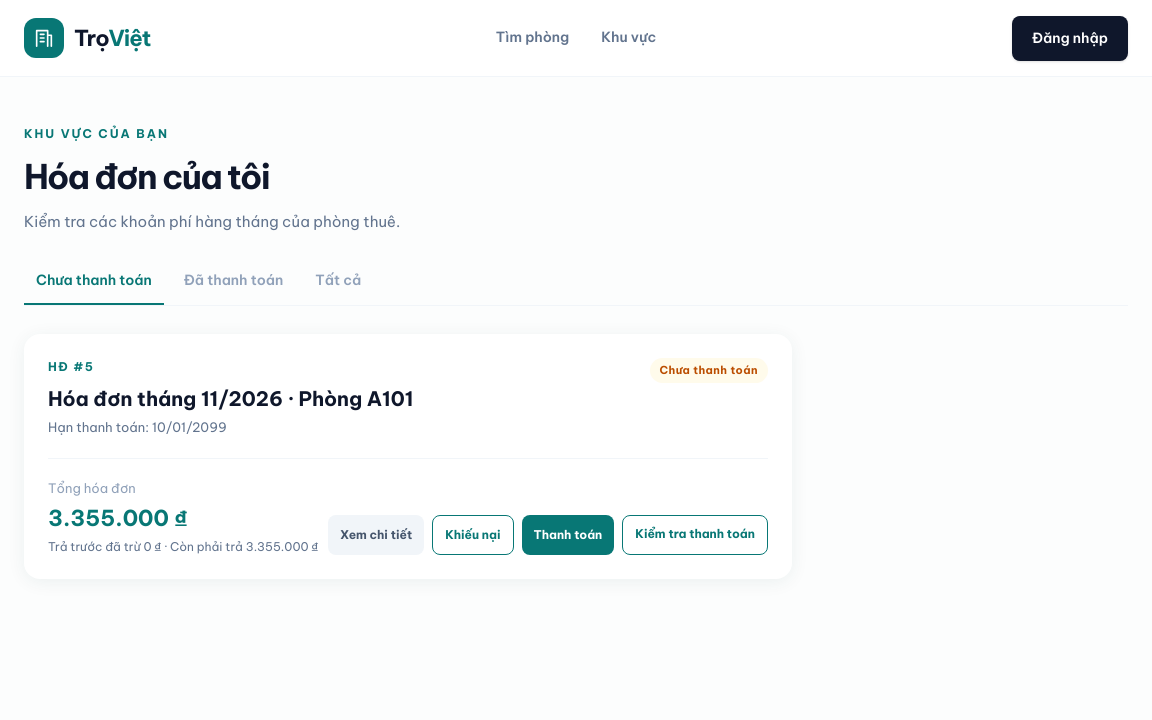
Scenario: Invoice complaints › lets the tenant complain about a real invoice line and shows it under sent complaints
The width and height of the screenshot is (1152, 720).
Click the button "Khiếu nại": x=473, y=535 [432, 515, 514, 555]
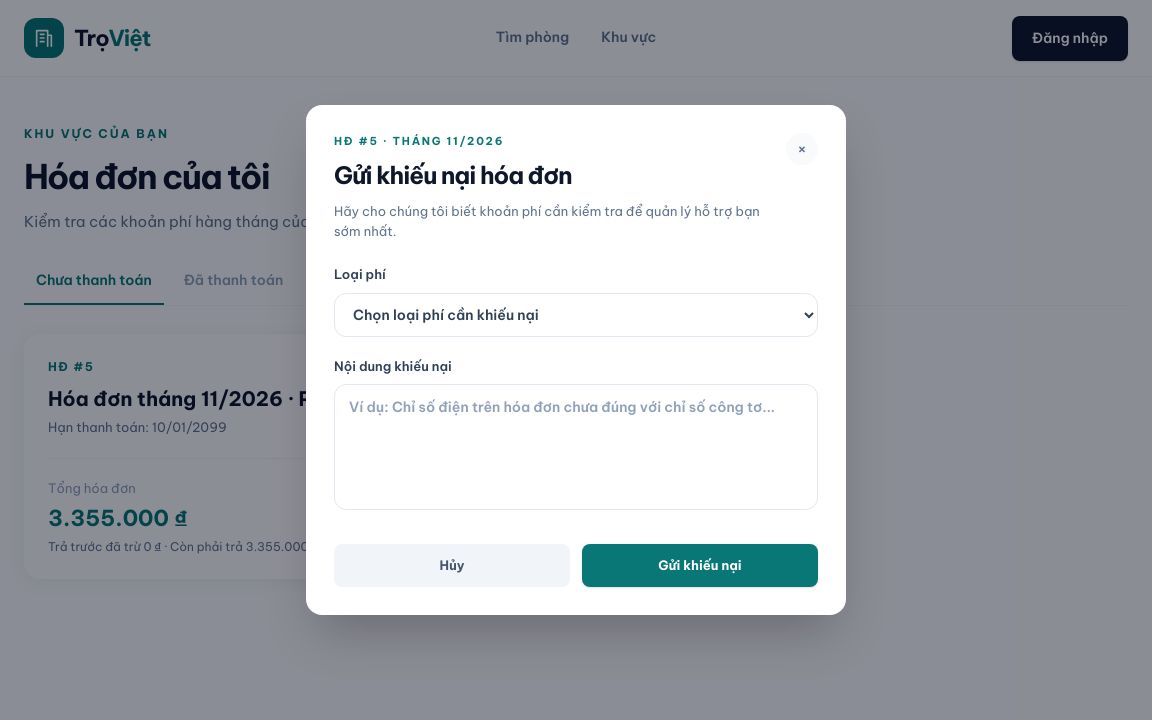
Click the button "Gửi khiếu nại": x=700, y=566 [582, 544, 818, 587]
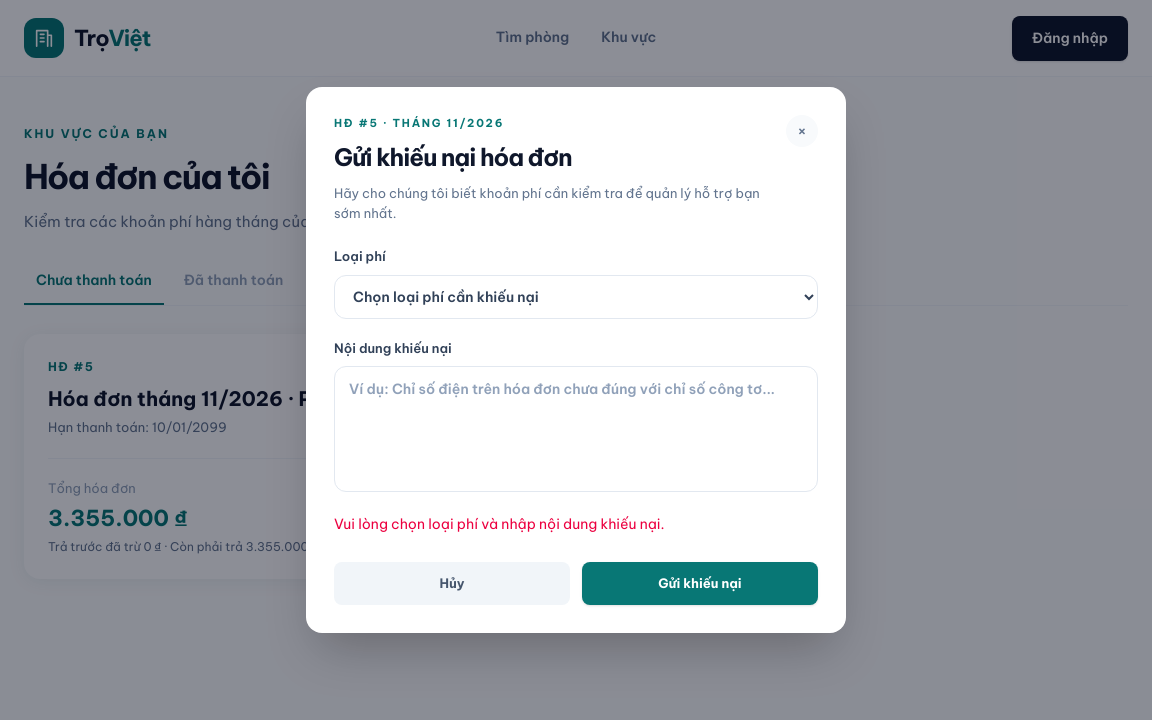
Now the message reads "Vui lòng chọn loại phí và nhập nội dung khiếu nại.", box [334, 515, 665, 533]
Select "Tiền phòng — 3.000.000 ₫" in the dropdown labelled "Loại phí": x=576, y=297 [334, 275, 818, 319]
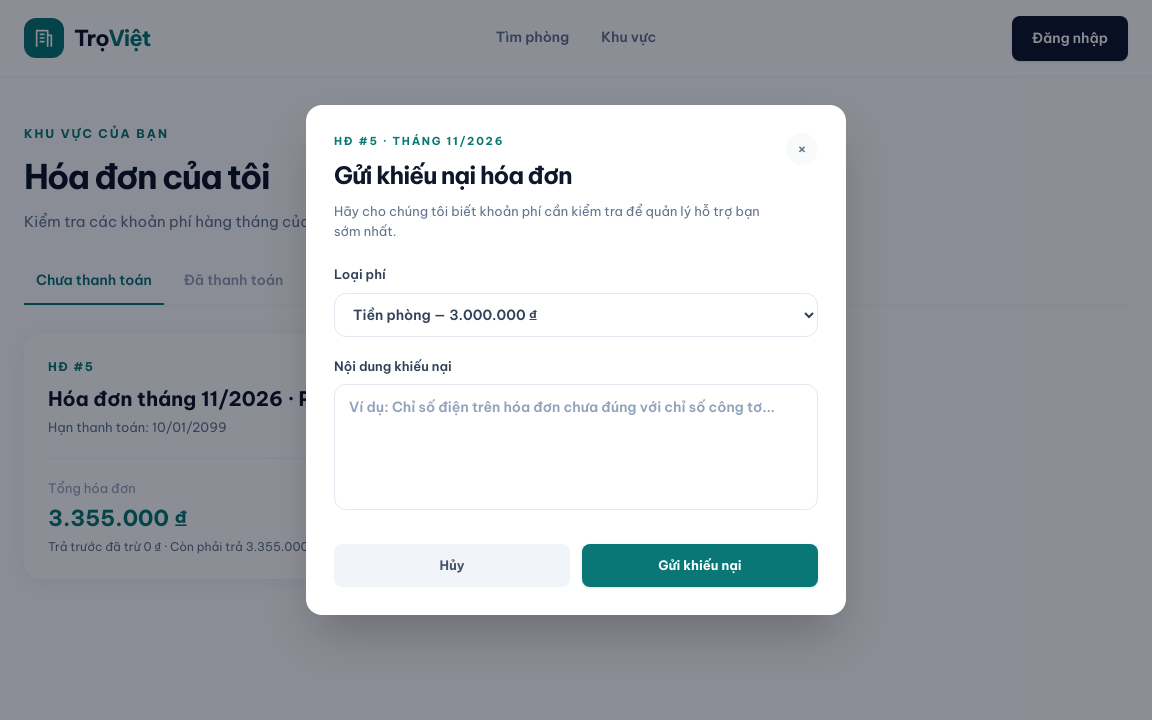
Replace the text in the text box labelled "Nội dung khiếu nại" with "  Giá phòng không đúng hợp đồng  ": x=576, y=447 [334, 384, 818, 510]
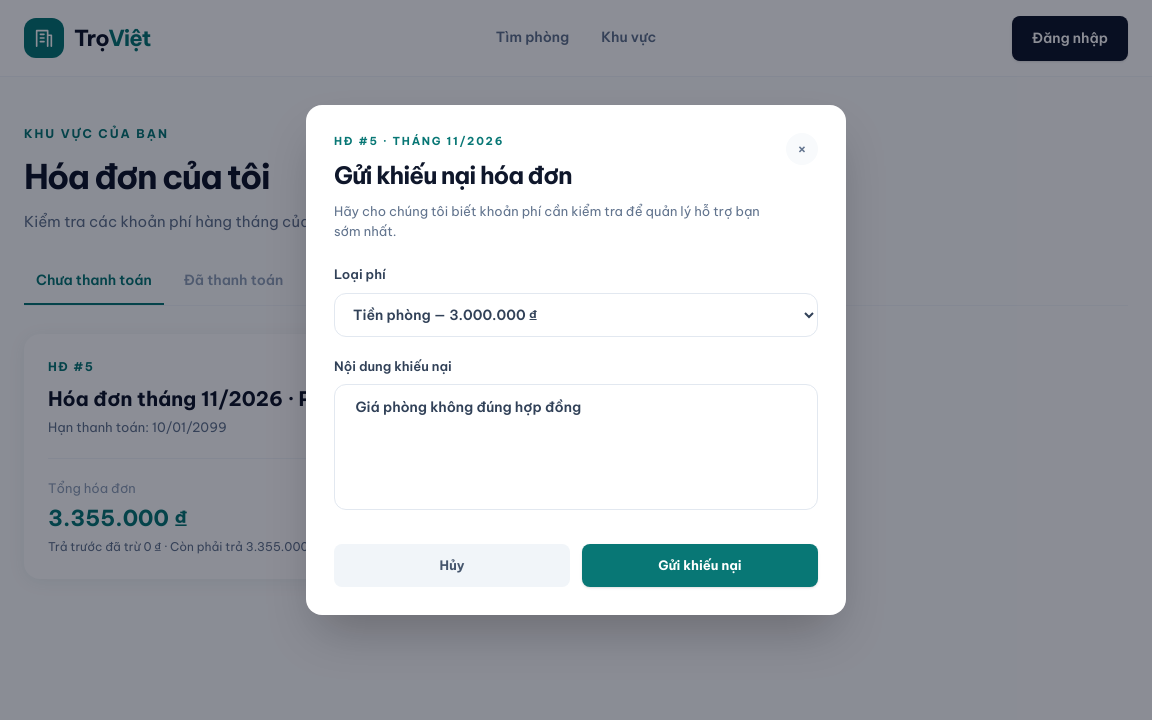
Click the button "Gửi khiếu nại": x=700, y=566 [582, 544, 818, 587]
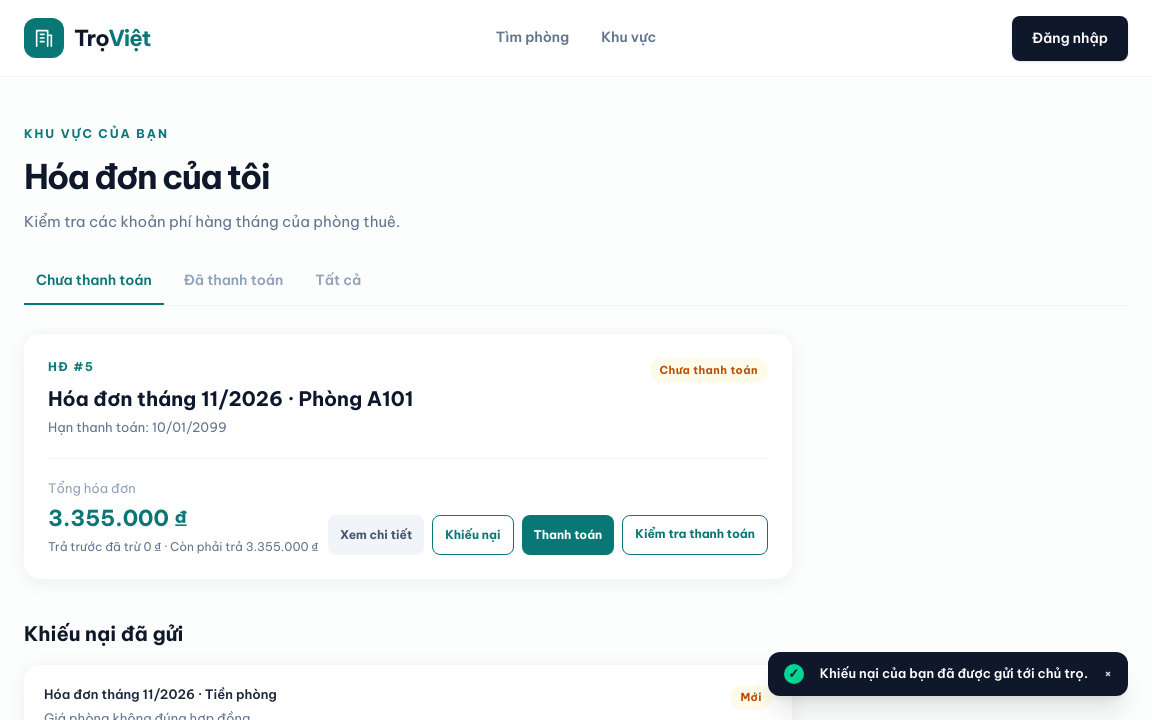
Now the text "Khiếu nại của bạn đã được gửi tới chủ trọ." is shown, box [820, 665, 1088, 681]
Now the heading "Khiếu nại đã gửi" is shown, box [24, 621, 184, 646]
Now the text "Mới" is shown, box [730, 685, 772, 710]
